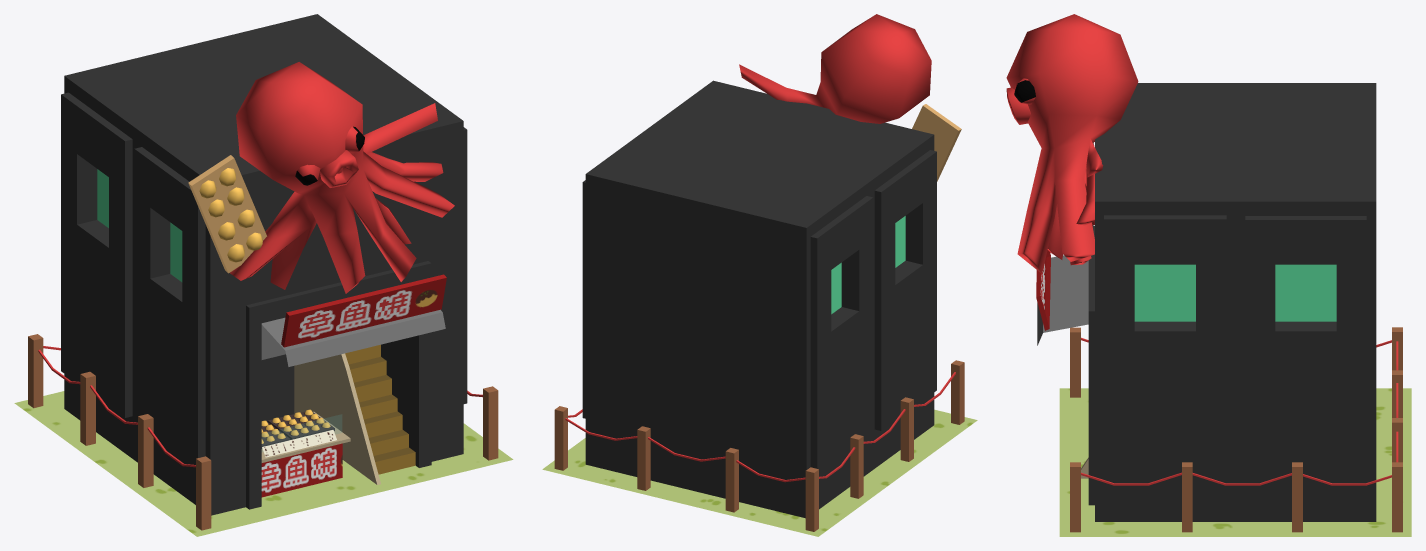
File: taco.fbx
3 views of the same model, side by side, from view 1: azimuth 30°, elevation 25°; view 2: azimuth 150°, elevation 25°; view 3: azimuth 270°, elevation 25° (orthographic). The views are drawn at different scales.
Parts seen in each view (by area): view 1: taco2; view 2: taco2; view 3: taco2.
Part boxes in pixels (<box>): taco2: <box>14,14,513,536</box>; taco2: <box>542,14,977,536</box>; taco2: <box>1006,14,1411,536</box>.
Size of the model in its own units: 25 by 32.76 by 28.79.
2 materials, 1 textured.
